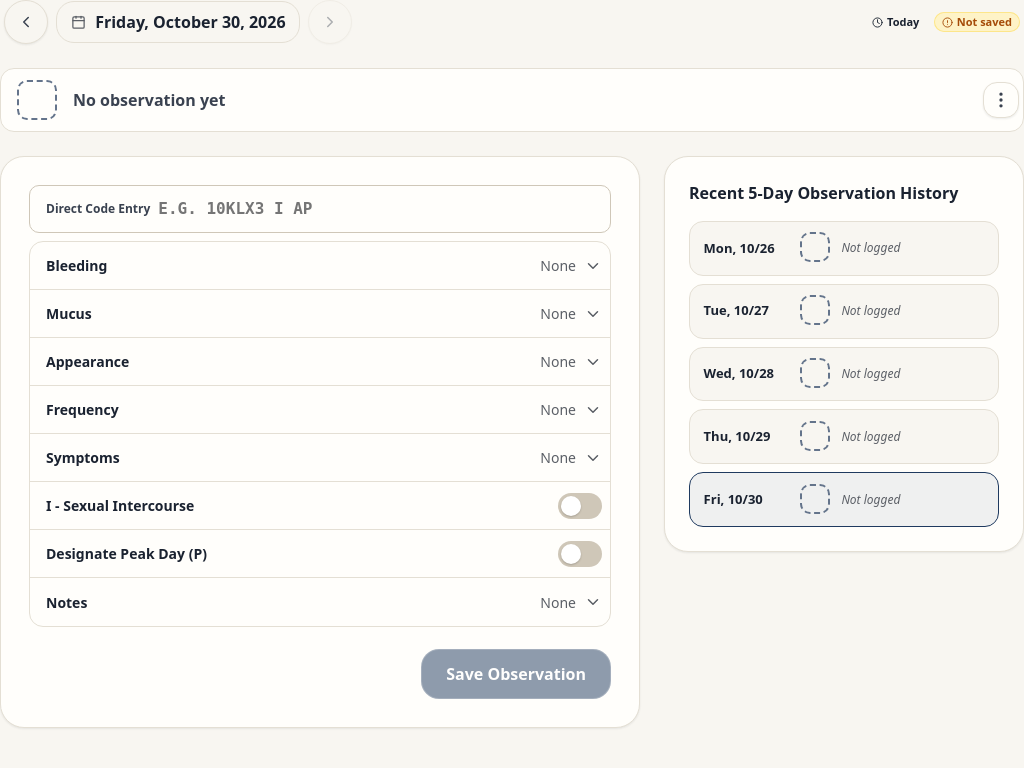
Test case: TodayView Component (Dedicated Today Page) › hides the group rows in Direct Code Only and shows them again
Click the button named "Observation actions".
click(1001, 100)  # box left=983, top=82, right=1019, bottom=118
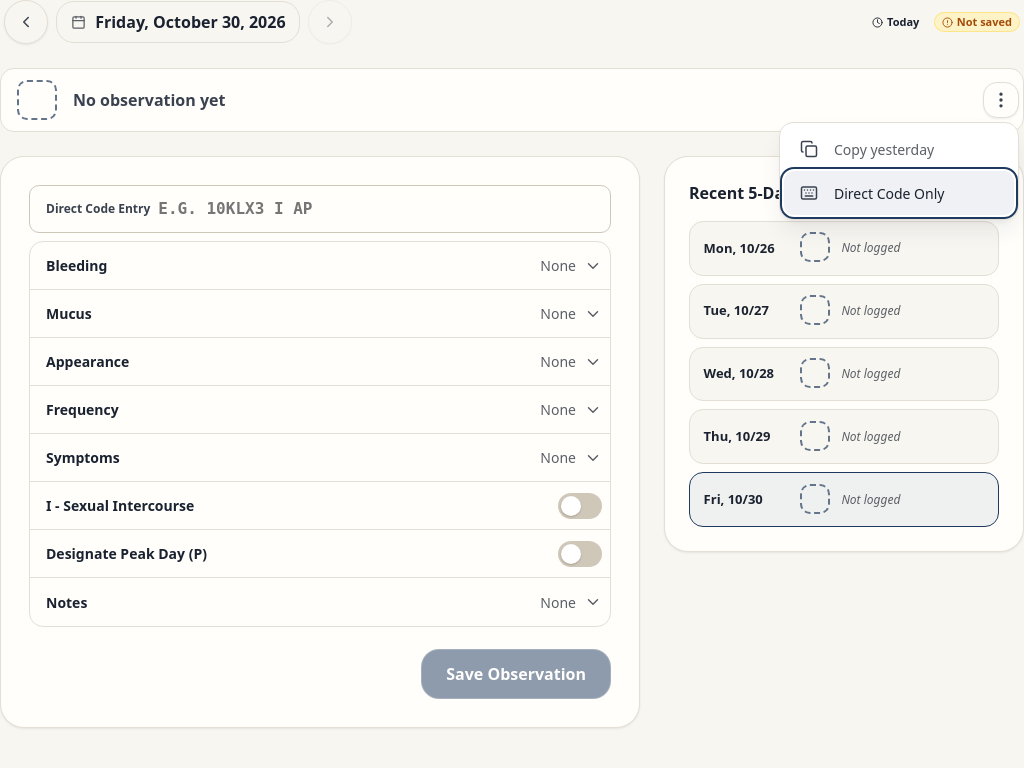
Click the menu item "Direct Code Only".
click(899, 193)  # box left=784, top=171, right=1014, bottom=215
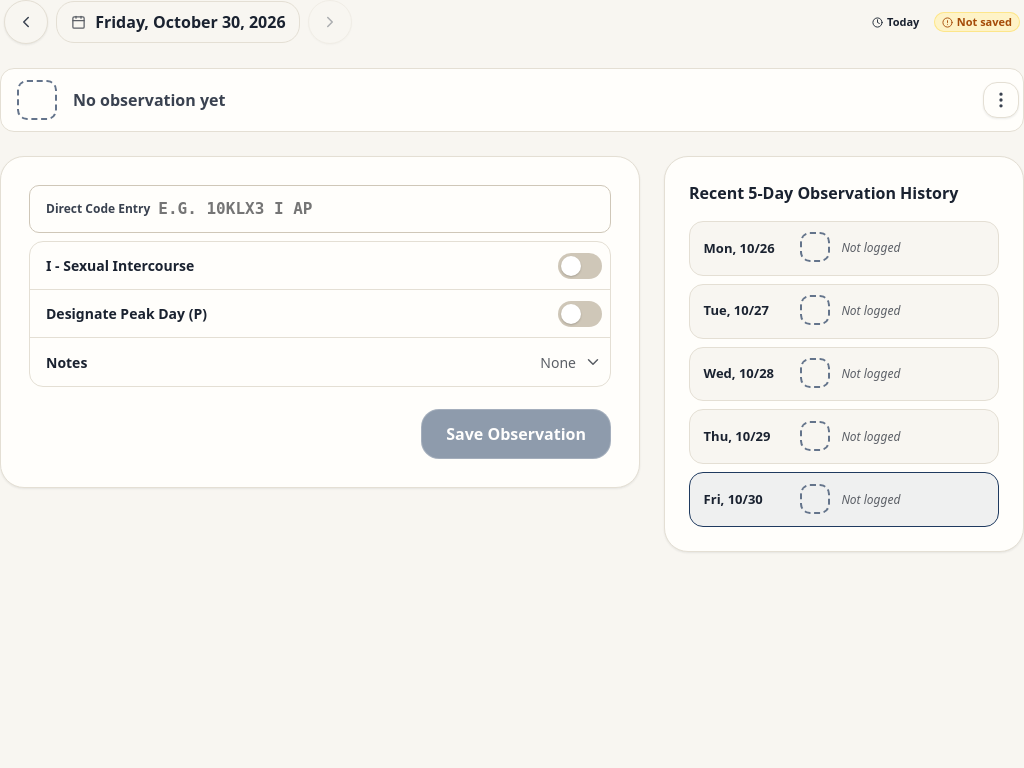
Check: the button "Bleeding" is gone
Click the button named "Observation actions".
click(1001, 100)  # box left=983, top=82, right=1019, bottom=118
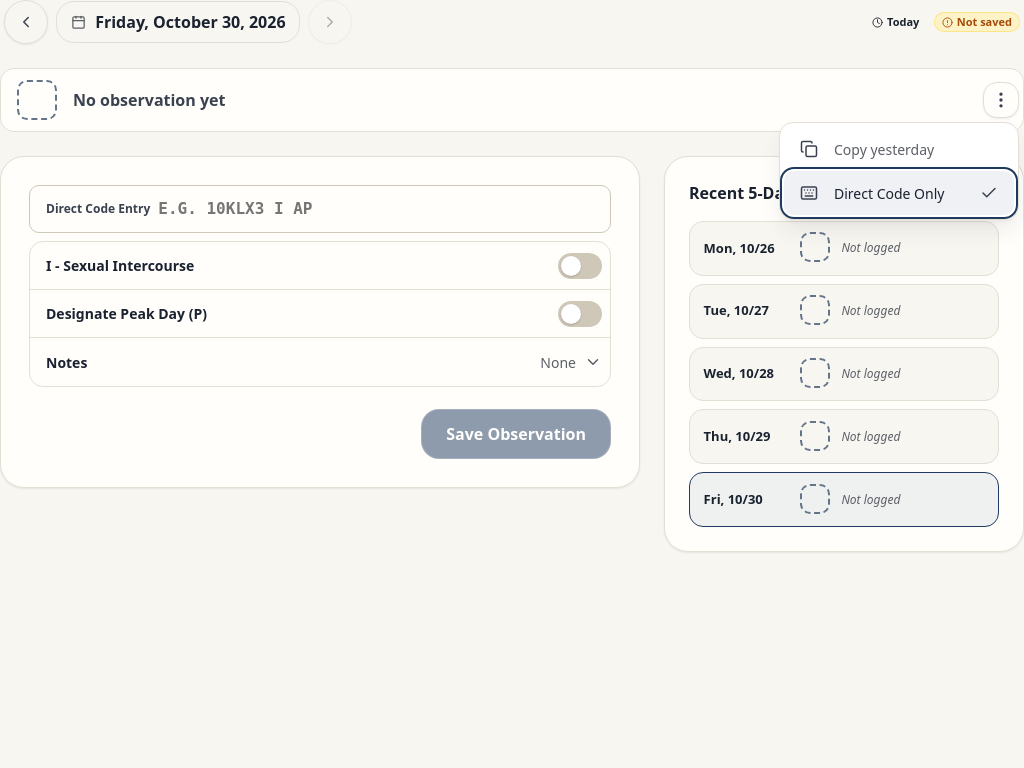
Click the menu item "Direct Code Only".
click(899, 193)  # box left=784, top=171, right=1014, bottom=215
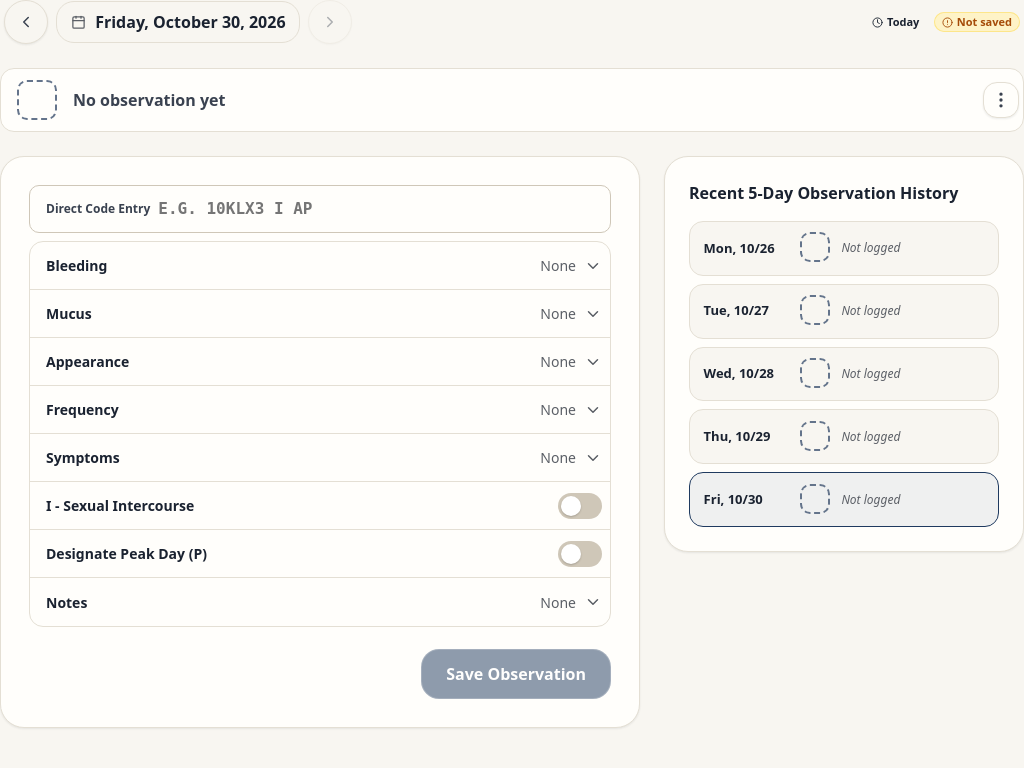
Check: the button "Bleeding None" is shown, box left=30, top=242, right=610, bottom=290
